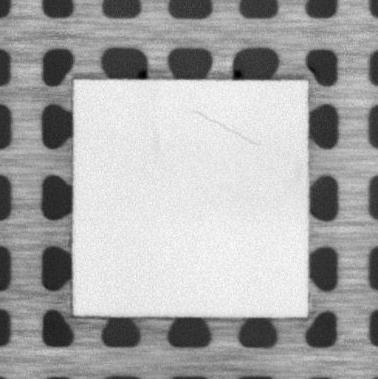DIE_CRACK: (192, 111, 263, 145)
